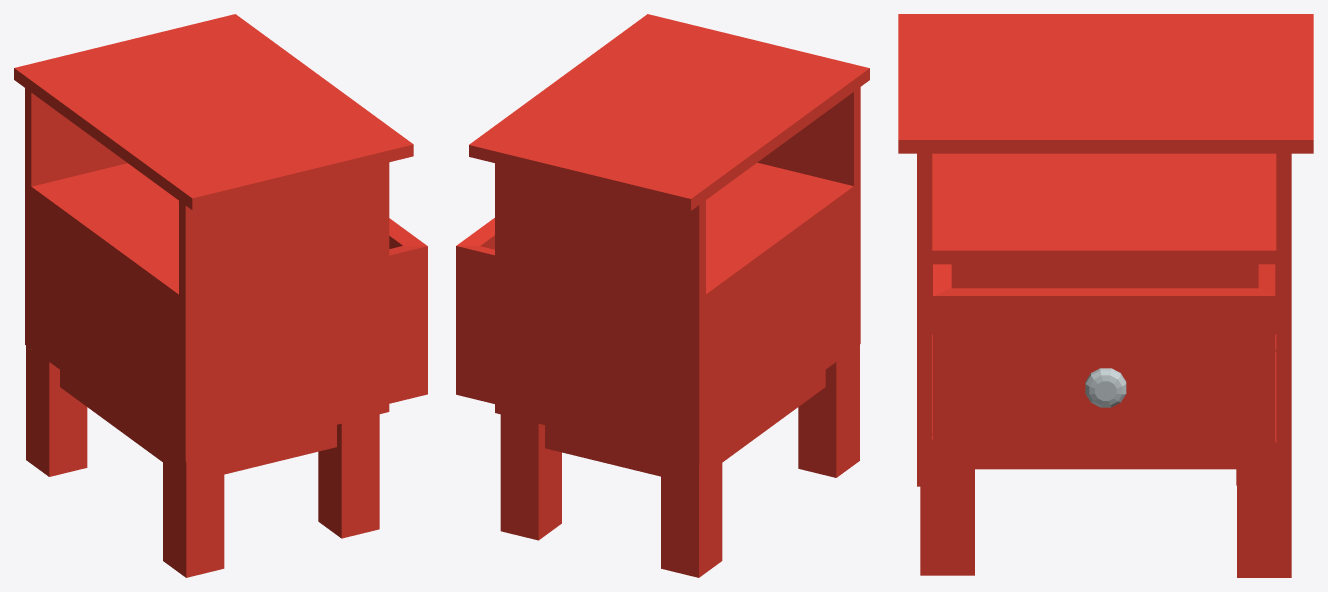
Rendered from night-stand-by-jarlan-perez-b-UGYgy1Cqj.glb.
3 views of the same model, side by side, from view 1: azimuth 30°, elevation 25°; view 2: azimuth 150°, elevation 25°; view 3: azimuth 270°, elevation 25° (orthographic). The views are drawn at different scales.
Parts seen in each view (by area): view 1: Node; view 2: Node; view 3: Node.
Boxes of the visible parts, x1=… form: Node: x1=14, y1=14, x2=427, y2=577; Node: x1=456, y1=14, x2=869, y2=577; Node: x1=898, y1=14, x2=1313, y2=577.
Size of the model in its own units: 2.09 by 2.92 by 2.44.
